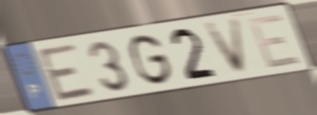2: (170, 26, 219, 83)
3: (86, 38, 132, 93)
E: (34, 41, 99, 105), (245, 11, 304, 71)
G: (128, 32, 175, 88)
V: (202, 15, 248, 77)
